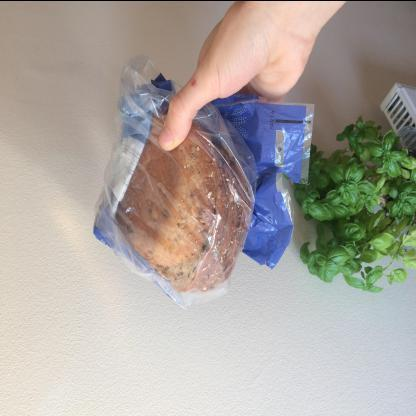diger: (89, 59, 316, 313)
